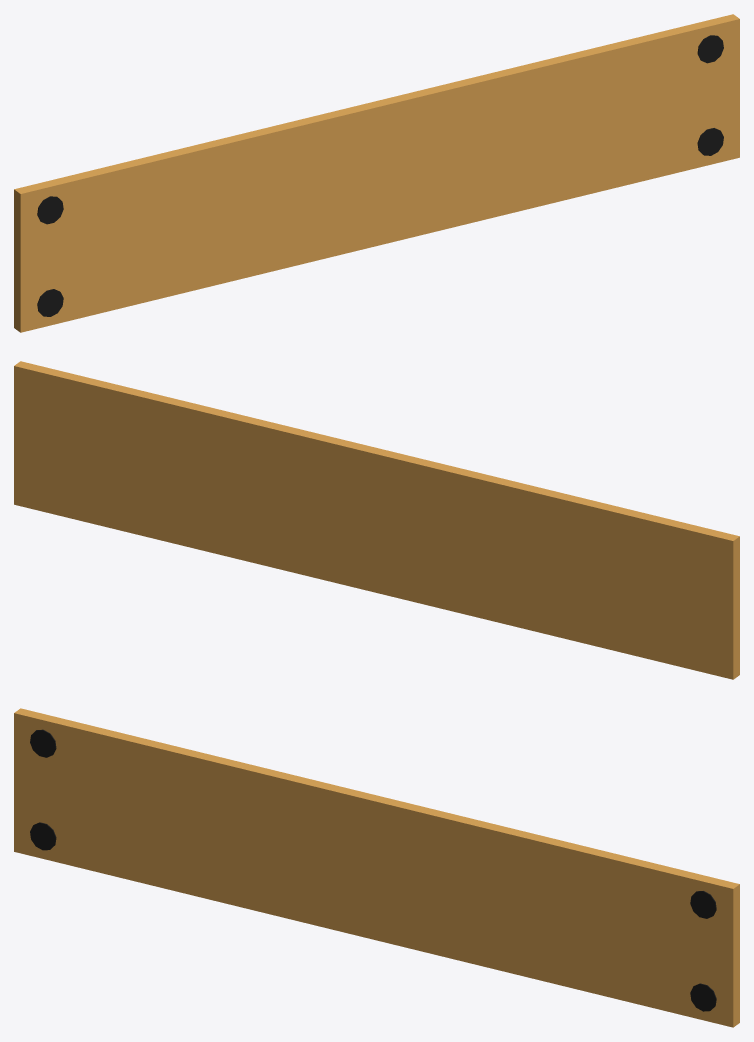
File: wood_obstacle.fbx
The picture shows the model from 3 angles, top to bottom: view 1: azimuth 30°, elevation 25°; view 2: azimuth 150°, elevation 25°; view 3: azimuth 330°, elevation 25°; orthographic projection.
Visible parts, largest first — view 1: wood_obstacle; view 2: wood_obstacle; view 3: wood_obstacle.
Part boxes in pixels (x1,y1,x2,y2): wood_obstacle: (14, 14, 739, 332); wood_obstacle: (14, 361, 739, 679); wood_obstacle: (14, 708, 739, 1027).
Bounding box in the file's own units: 243 × 44.8 × 4.21.
